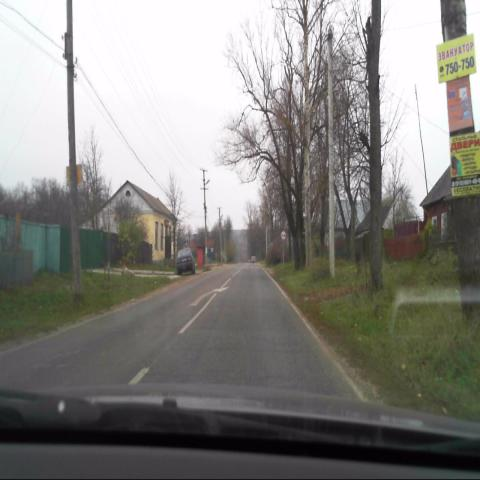3_20: (280, 229, 287, 241)
